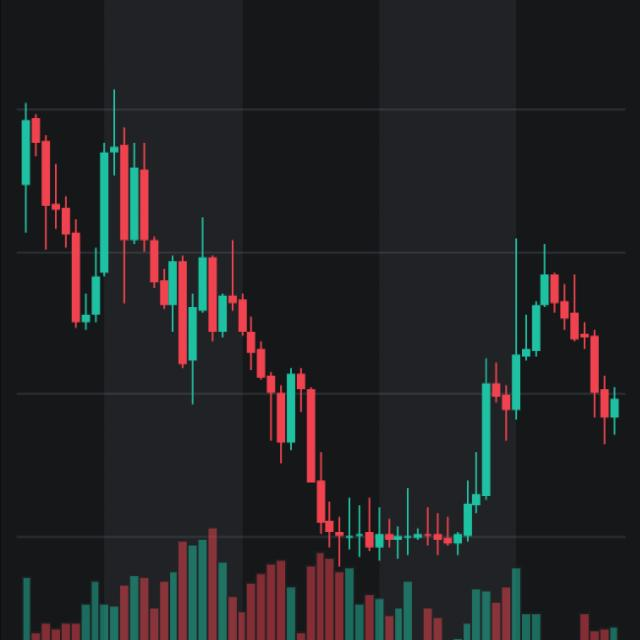Channel-down: (0, 22, 369, 583)
